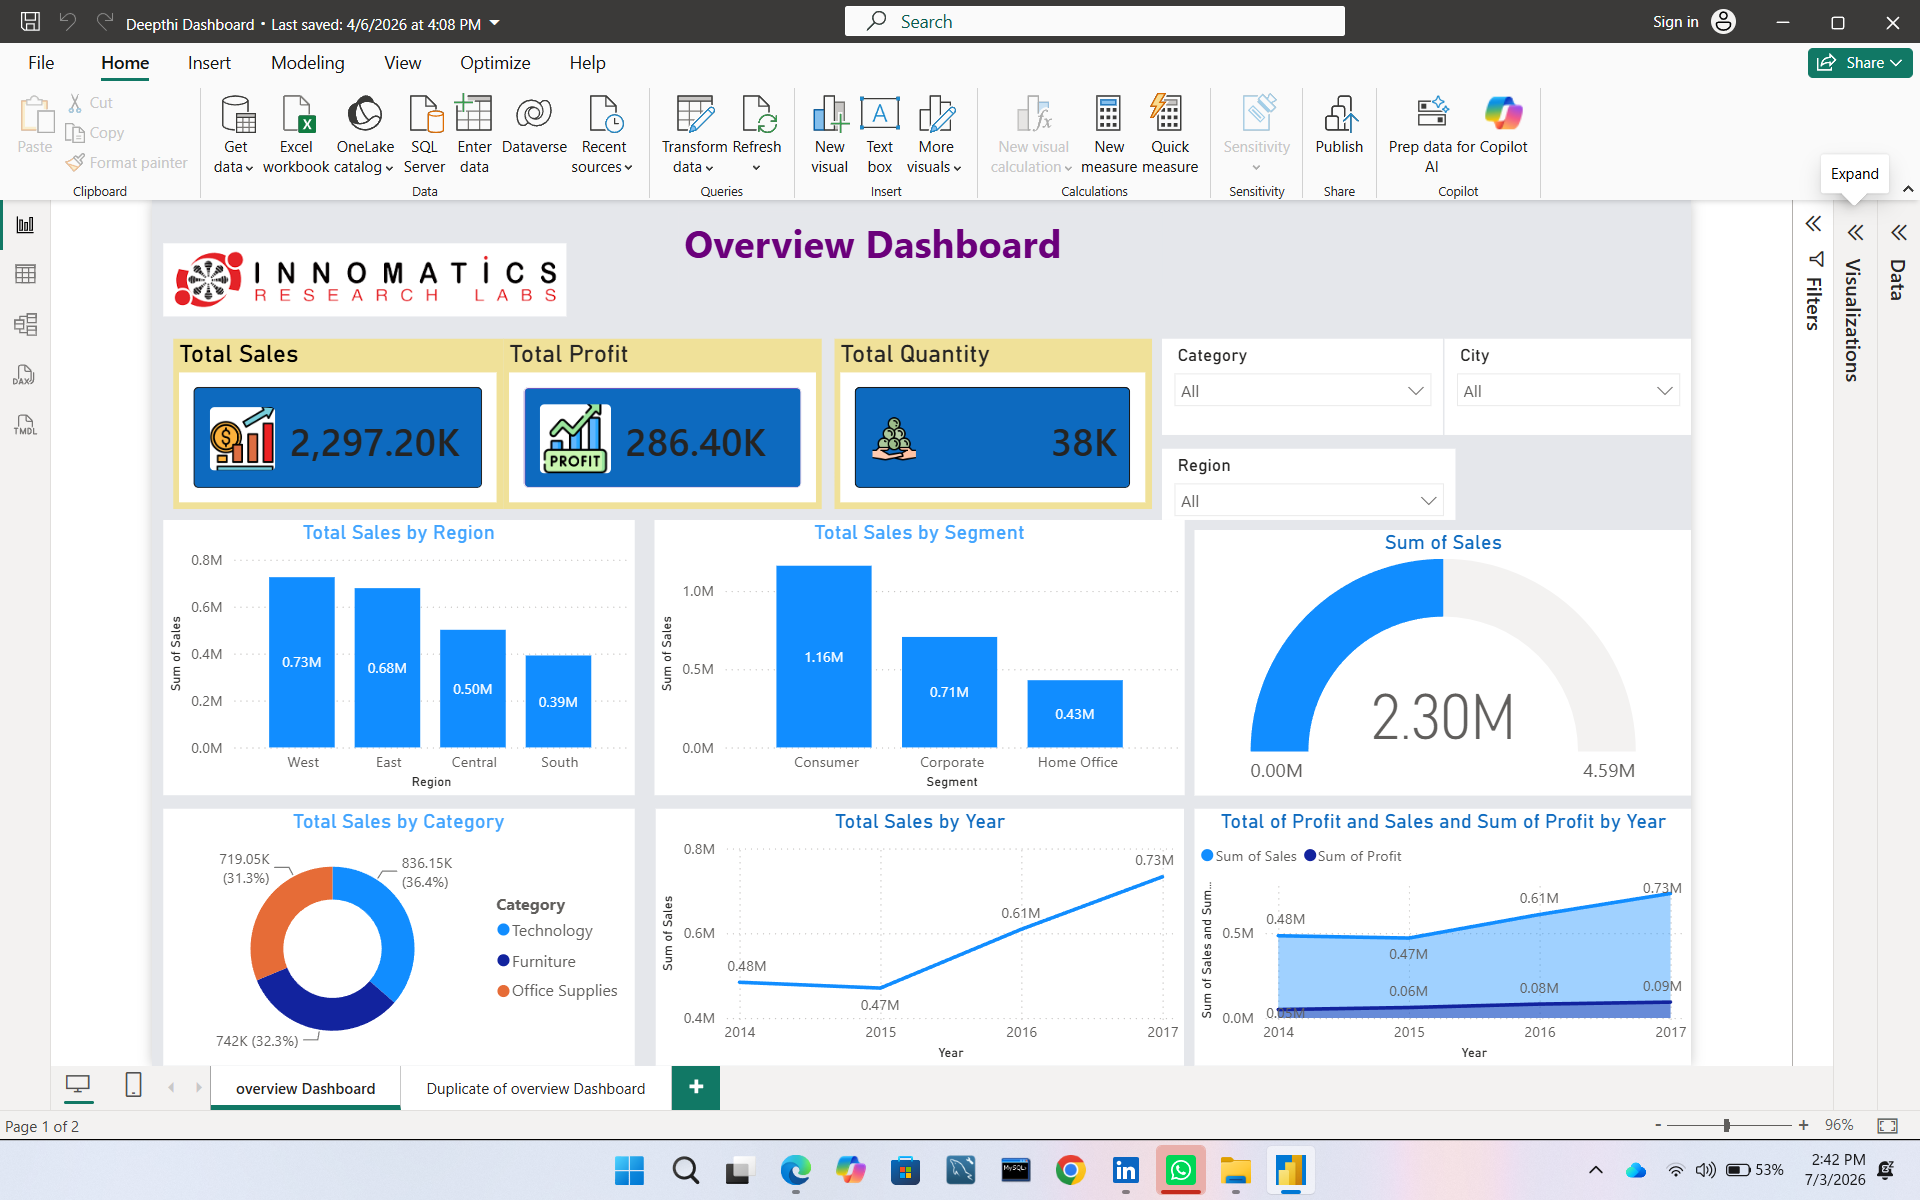

What the dashboard file says about the page in this screenshot:
{"tool":"powerbi","page":{"name":"overview Dashboard","canvas":[1280,720],"ordinal":0},"visuals":[{"type":"textbox","box":[437.7,9.6,402.1,87.8],"z":0},{"type":"image","box":[9.6,0,334.8,133.1],"z":1000},{"type":"cardVisual","title":"Total Sales","fields":{"Data":["Sum(Superstore_dataset.Sales)"]},"box":[17.4,115.1,274.4,141.9],"z":2000},{"type":"cardVisual","title":"Total Profit","fields":{"Data":["Sum(Superstore_dataset.Profit)"]},"box":[291.9,115.1,265.1,141.9],"z":3000},{"type":"cardVisual","title":"Total Quantity","fields":{"Data":["Sum(Superstore_dataset.Quantity)"]},"box":[567.4,115.1,264,141.9],"z":4000},{"type":"columnChart","title":"Total Sales by Region","fields":{"Y":["Sum(Superstore_dataset.Sales)"],"Category":["Superstore_dataset.Region"]},"box":[9.3,266.3,391.9,229.1],"z":5000},{"type":"donutChart","title":"Total Sales by Category","fields":{"Y":["Sum(Superstore_dataset.Sales)"],"Category":["Superstore_dataset.Category"]},"box":[9.3,505.8,391.9,214],"z":6000},{"type":"lineChart","title":"Total Sales by Year","fields":{"Category":["Superstore_dataset.Order Date.Variation.Date Hierarchy.Year","Superstore_dataset.Order Date.Variation.Date Hierarchy.Quarter","Superstore_dataset.Order Date.Variation.Date Hierarchy.Month","Superstore_dataset.Order Date.Variation.Date Hierarchy.Day"],"Y":["Sum(Superstore_dataset.Sales)"]},"box":[418.6,505.8,439.5,214],"z":7000},{"type":"columnChart","title":"Total Sales by Segment","fields":{"Category":["Superstore_dataset.Segment"],"Y":["Sum(Superstore_dataset.Sales)"]},"box":[417.4,266.3,440.7,229.1],"z":8000},{"type":"areaChart","title":"Total of Profit and Sales and Sum of Profit by Year","fields":{"Y":["Sum(Superstore_dataset.Sales)","Sum(Superstore_dataset.Profit)"],"Category":["Superstore_dataset.Order Date.Variation.Date Hierarchy.Year","Superstore_dataset.Order Date.Variation.Date Hierarchy.Quarter","Superstore_dataset.Order Date.Variation.Date Hierarchy.Month","Superstore_dataset.Order Date.Variation.Date Hierarchy.Day"]},"box":[866.3,505.8,414,214],"z":9000},{"type":"gauge","fields":{"Y":["Sum(Superstore_dataset.Sales)"]},"box":[866.3,274.4,414,220.9],"z":10000},{"type":"slicer","fields":{"Values":["Superstore_dataset.Category"]},"box":[839.5,115.1,233.7,80.2],"z":11000},{"type":"slicer","fields":{"Values":["Superstore_dataset.City"]},"box":[1074.4,115.1,205.8,80.2],"z":12000},{"type":"slicer","fields":{"Values":["Superstore_dataset.Region"]},"box":[839.5,207,244.2,59.3],"z":13000}]}

Visuals, with their boxes on the page's 1280x720 design canvas (x1, y1, x2, y2). These are canvas units, not pixel positions in the 1920x1200 screenshot, which may show the page scaled, cropped or inside an application window:
textbox: region(438, 10, 840, 97)
image: region(10, 0, 344, 133)
"Total Sales" cardVisual: region(17, 115, 292, 257)
"Total Profit" cardVisual: region(292, 115, 557, 257)
"Total Quantity" cardVisual: region(567, 115, 831, 257)
"Total Sales by Region" columnChart: region(9, 266, 401, 495)
"Total Sales by Category" donutChart: region(9, 506, 401, 720)
"Total Sales by Year" lineChart: region(419, 506, 858, 720)
"Total Sales by Segment" columnChart: region(417, 266, 858, 495)
"Total of Profit and Sales and Sum of Profit by Year" areaChart: region(866, 506, 1280, 720)
gauge - Sum(Superstore_dataset.Sales): region(866, 274, 1280, 495)
slicer - Superstore_dataset.Category: region(840, 115, 1073, 195)
slicer - Superstore_dataset.City: region(1074, 115, 1280, 195)
slicer - Superstore_dataset.Region: region(840, 207, 1084, 266)
